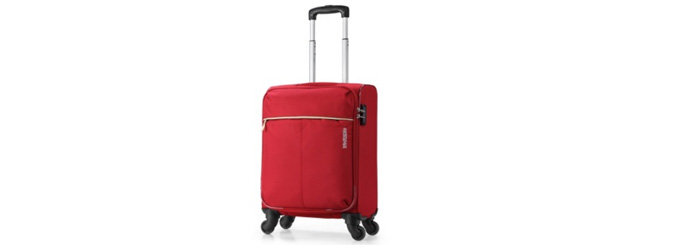luggage: (260, 4, 382, 241)
